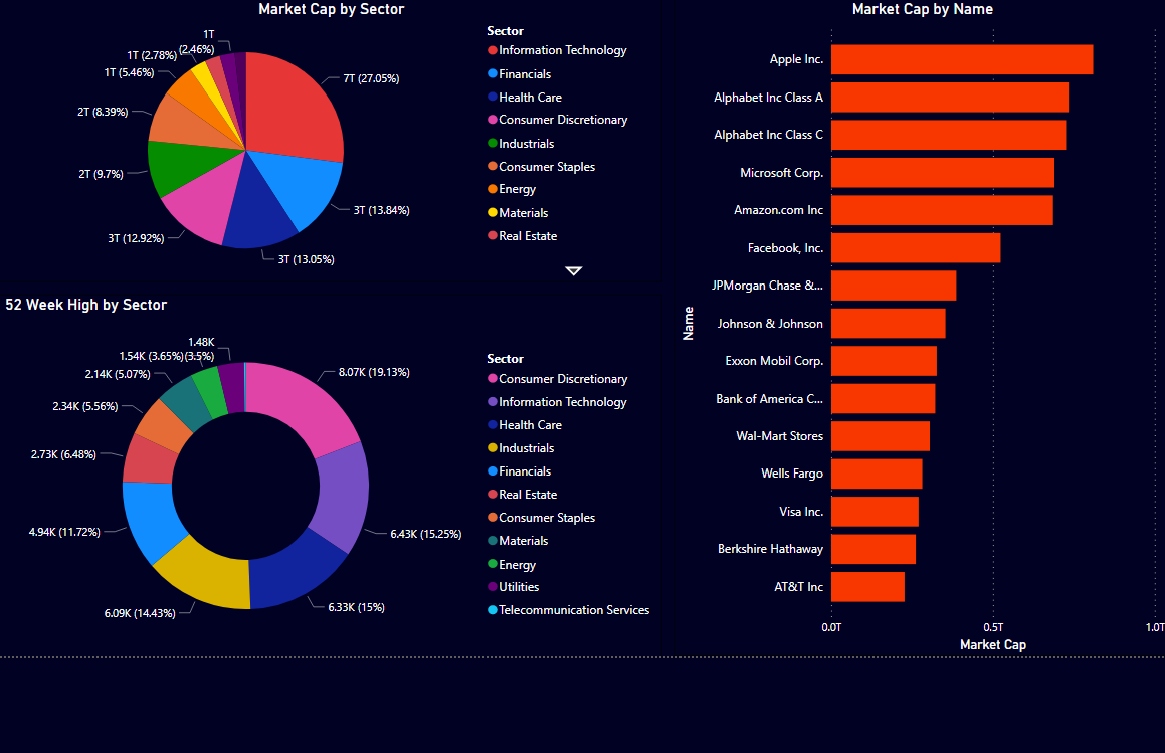

This screenshot's page, from the dashboard's own definition file:
{"tool":"powerbi","page":{"name":"Page 2","canvas":[1280,720],"ordinal":1},"visuals":[{"type":"pieChart","fields":{"Category":["financials.Sector"],"Y":["Sum(financials.Market Cap)"]},"box":[0,0,725.9,309.3],"z":0},{"type":"barChart","fields":{"Category":["financials.Name"],"Y":["Sum(financials.Market Cap)"]},"box":[739.7,0,540.3,719.1],"z":1000},{"type":"donutChart","fields":{"Category":["financials.Sector"],"Y":["Sum(financials.52 Week High)"]},"box":[0,323.1,725.9,397.3],"z":2000}]}

Visuals, with their boxes on the page's 1280x720 design canvas (x1, y1, x2, y2). These are canvas units, not pixel positions in the 1165x753 screenshot, which may show the page scaled, cropped or inside an application window:
pieChart - financials.Sector x Sum(financials.Market Cap): (left=0, top=0, right=726, bottom=309)
barChart - financials.Name x Sum(financials.Market Cap): (left=740, top=0, right=1280, bottom=719)
donutChart - financials.Sector x Sum(financials.52 Week High): (left=0, top=323, right=726, bottom=720)
